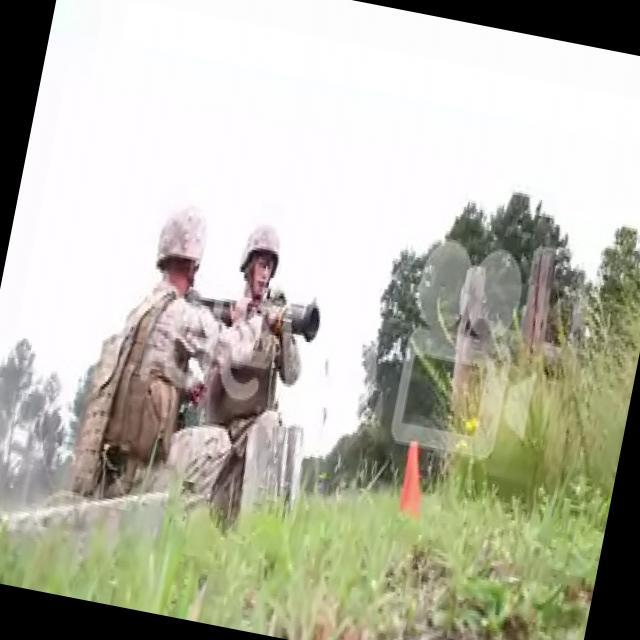rocket: (216, 284, 326, 345)
